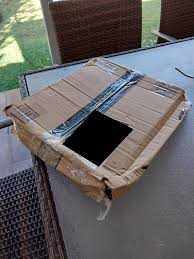damaged package: (3, 102, 91, 188), (97, 177, 113, 211)
